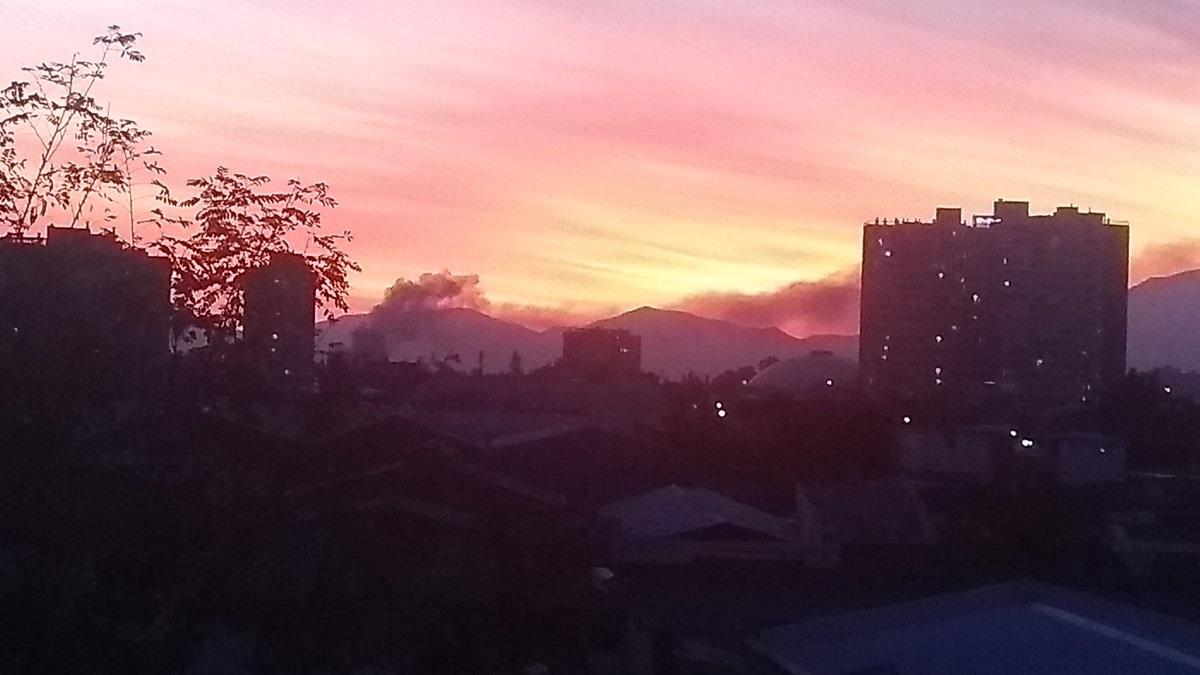smoke: (772, 277, 847, 332), (377, 292, 472, 330)
